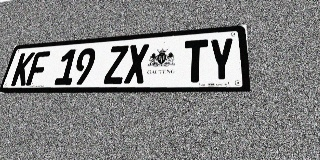1: (54, 49, 79, 85)
9: (72, 47, 97, 85)
F: (26, 51, 51, 86)
K: (10, 52, 35, 86)
T: (183, 39, 208, 83)
X: (124, 44, 149, 84)
Y: (209, 37, 235, 82)
Z: (103, 45, 129, 84)
